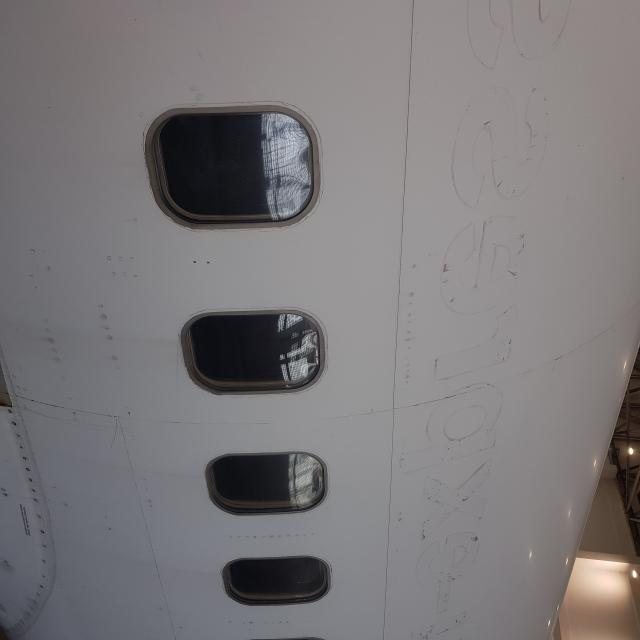crack: (111, 425, 127, 453)
